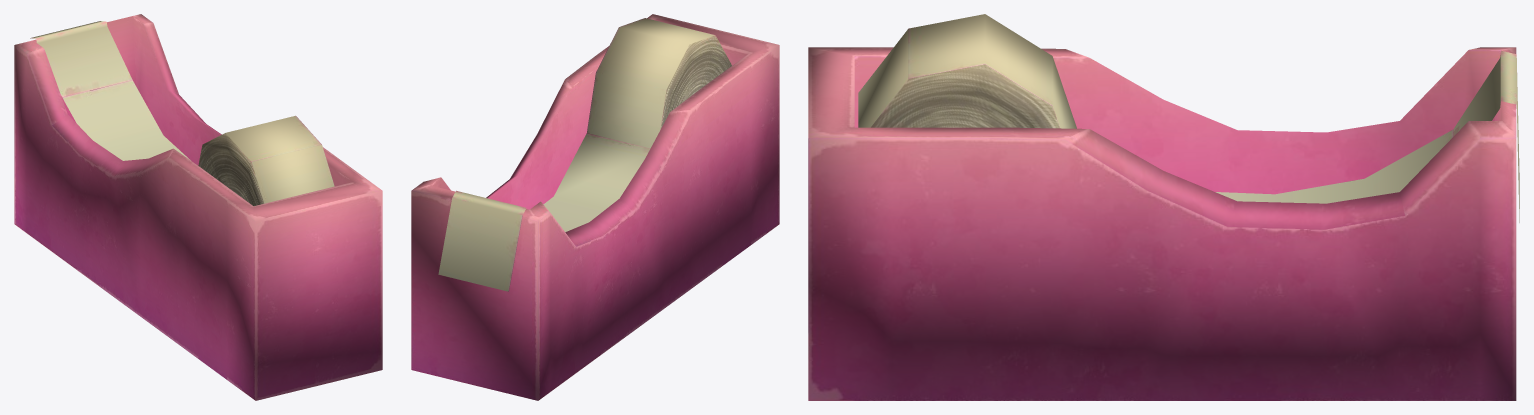
File: Tape_Dispenser.glb
3 renders of one model, left to right at view 1: azimuth 30°, elevation 25°; view 2: azimuth 150°, elevation 25°; view 3: azimuth 270°, elevation 25°, orthographic. The views are drawn at different scales.
Parts seen in each view (by area): view 1: Tape_Dispenser; view 2: Tape_Dispenser; view 3: Tape_Dispenser.
Boxes of the visible parts, x1,y1,x2,y2 form: Tape_Dispenser: (14,14,382,400); Tape_Dispenser: (411,14,779,400); Tape_Dispenser: (808,14,1519,400).
Bounding box in the file's own units: 0.0772 × 0.1259 × 0.2555.
1 material, 1 textured.
